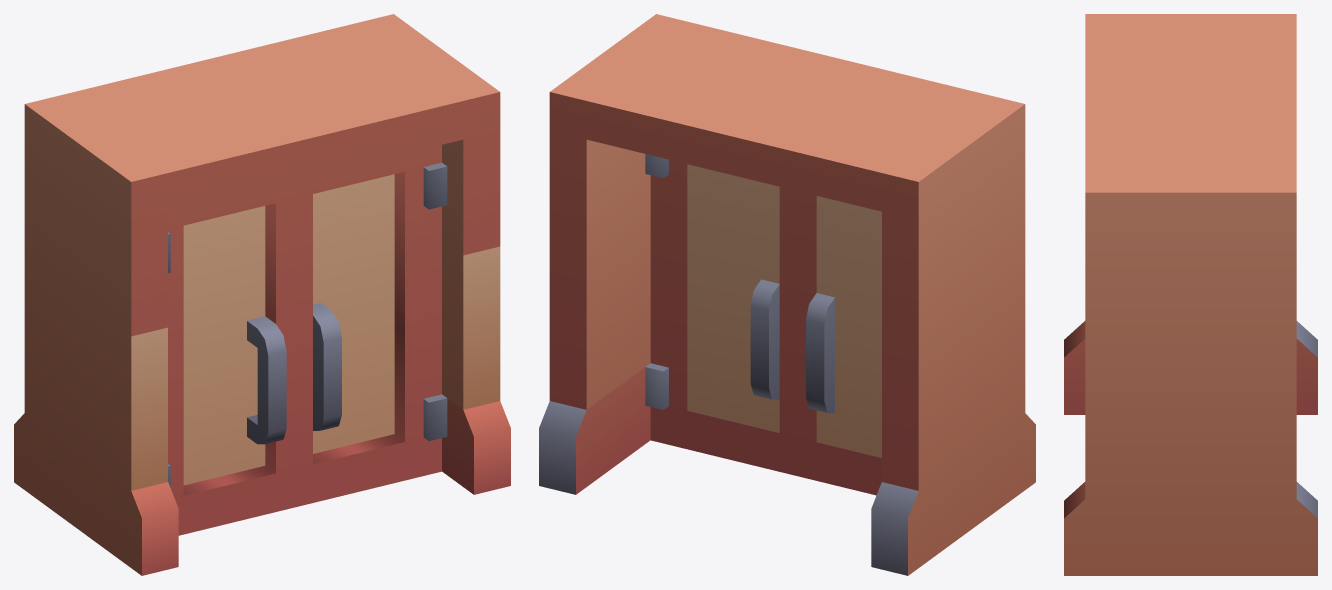
Rendered from wall-door-rotate.obj.
3 renders of one model, left to right at view 1: azimuth 30°, elevation 25°; view 2: azimuth 150°, elevation 25°; view 3: azimuth 270°, elevation 25°, orthographic.
Visible parts, largest first — view 1: Group, door-right, door-left, wall-door-rotate; view 2: Group, door-right, door-left, wall-door-rotate; view 3: Group, wall-door-rotate.
Boxes of the visible parts, x1,y1,x2,y2 form: Group: (14, 14, 500, 575); door-right: (294, 145, 447, 507); door-left: (168, 181, 294, 535); wall-door-rotate: (131, 398, 510, 575); Group: (549, 14, 1035, 575); door-right: (645, 154, 797, 476); door-left: (798, 191, 881, 495); wall-door-rotate: (539, 367, 918, 575); Group: (1064, 14, 1317, 575); wall-door-rotate: (1064, 321, 1317, 518).
Bounding box in the file's own units: 1 × 1 × 0.6.
